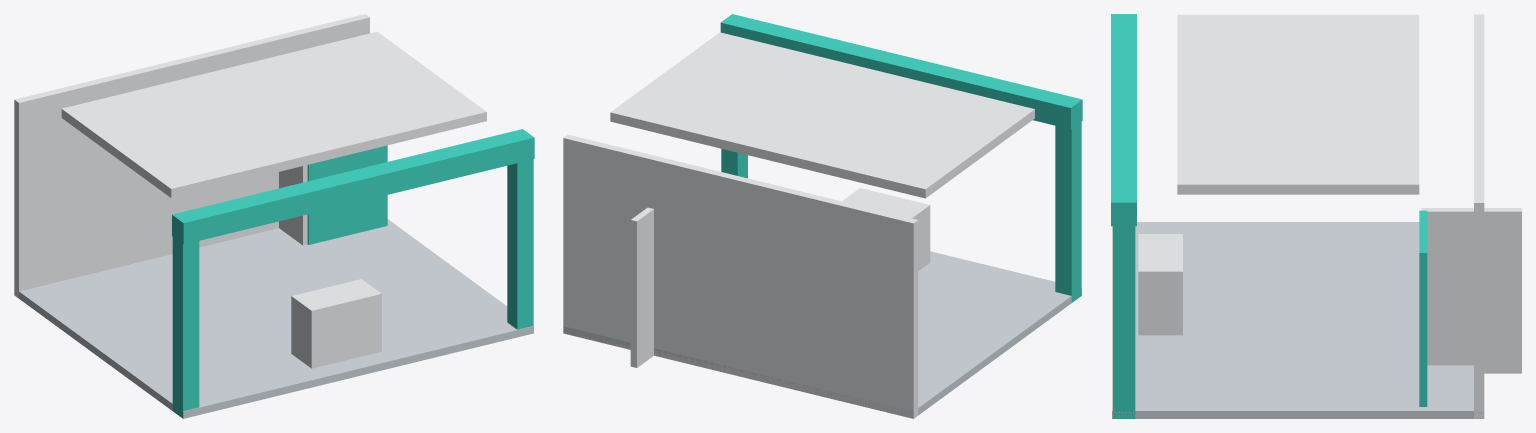
The picture shows the model from 3 angles, left to right: view 1: azimuth 30°, elevation 25°; view 2: azimuth 150°, elevation 25°; view 3: azimuth 270°, elevation 25°; orthographic projection. The views are drawn at different scales.
Visible parts, largest first — view 1: Exhibition Booth Concept; view 2: Exhibition Booth Concept; view 3: Exhibition Booth Concept.
Boxes of the visible parts, x1,y1,x2,y2 form: Exhibition Booth Concept: (14,14,534,418); Exhibition Booth Concept: (563,14,1082,418); Exhibition Booth Concept: (1111,14,1521,418).
Size of the model in its own units: 6 by 3.34 by 5.52.
